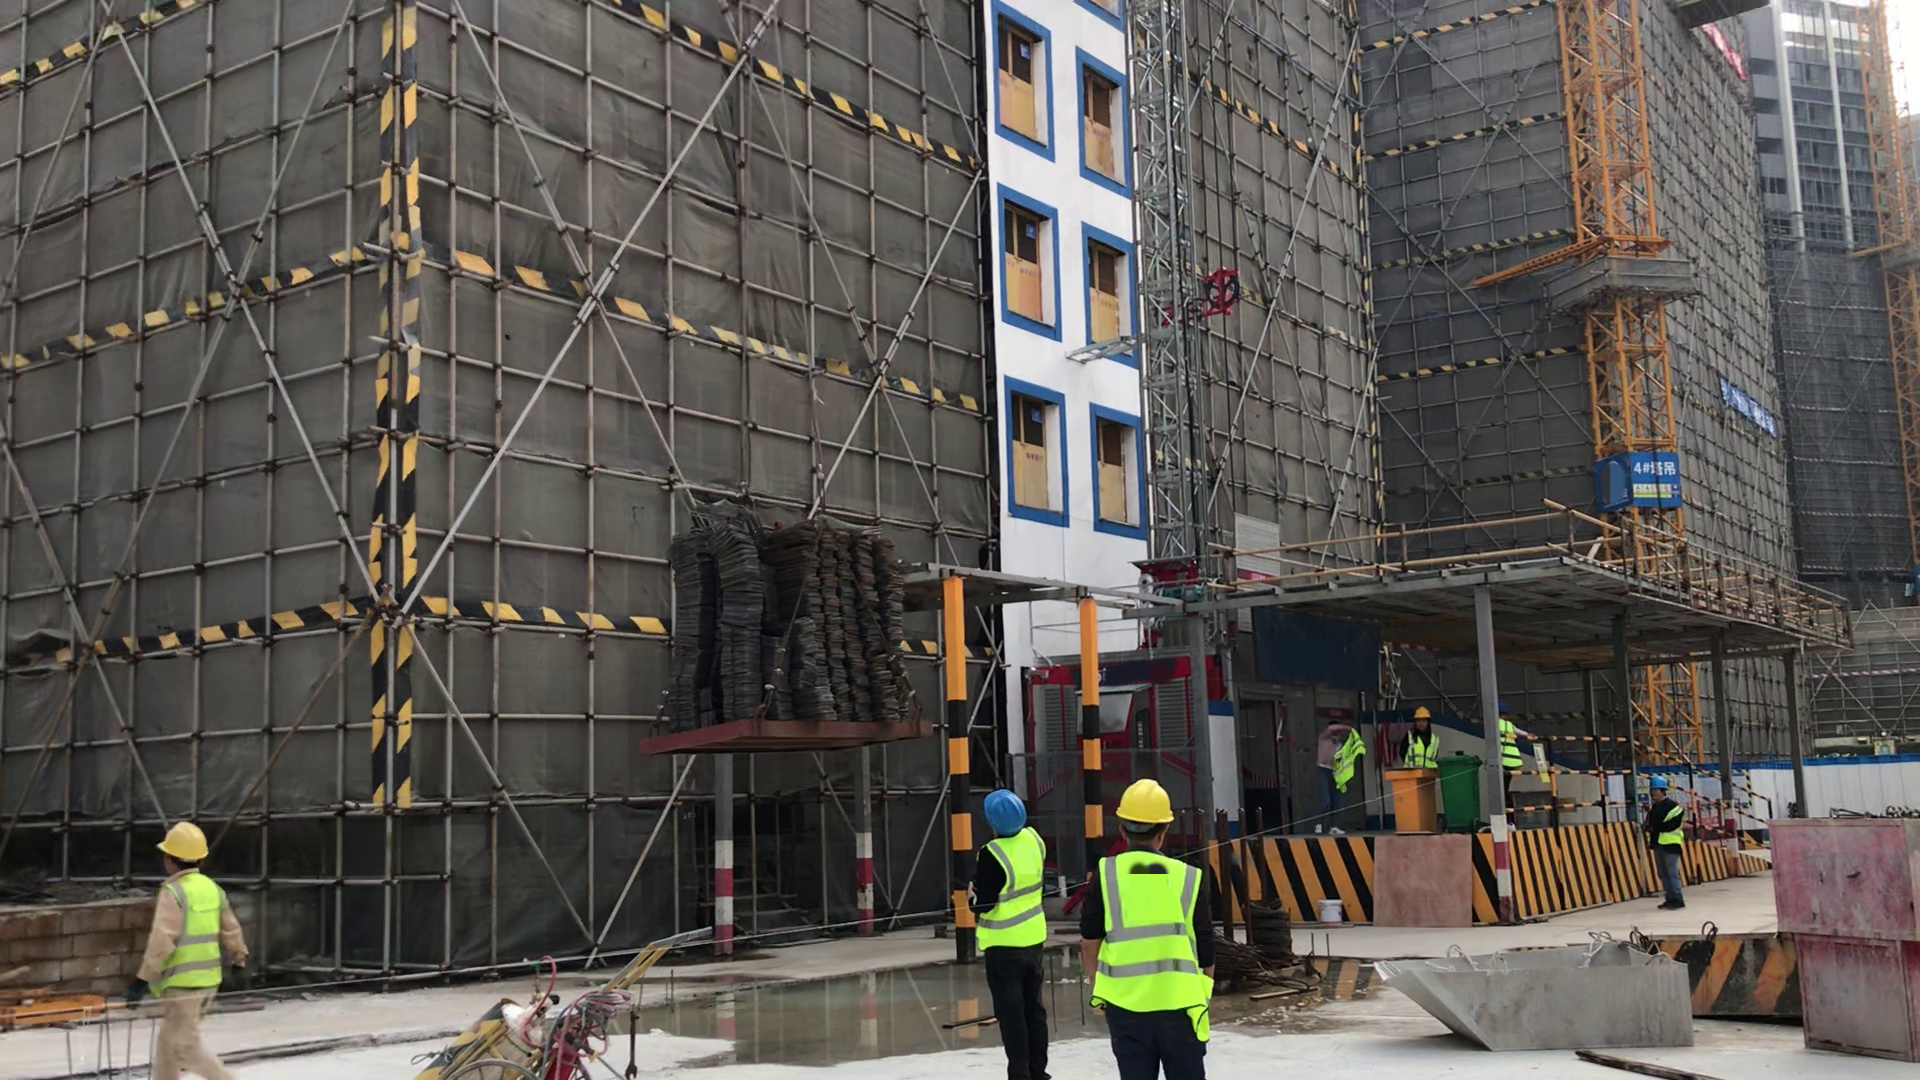fence: (1490, 722, 1780, 864)
handcart: (394, 923, 730, 1080)
helmet: (1116, 770, 1189, 833), (150, 810, 221, 873), (977, 787, 1035, 837), (1404, 704, 1440, 724), (1650, 773, 1679, 797), (1492, 692, 1519, 715), (1035, 835, 1036, 837)
hopper: (1363, 919, 1733, 1076)
person: (1066, 747, 1237, 1080), (123, 796, 272, 1080), (936, 758, 1065, 1080), (1628, 766, 1702, 930), (1389, 677, 1458, 822), (1312, 697, 1375, 843), (1493, 689, 1561, 819)
slogan: (1584, 443, 1698, 524), (1710, 361, 1794, 454), (1677, 26, 1765, 92)
vest: (1090, 846, 1240, 1045), (145, 869, 244, 999), (968, 826, 1052, 957), (1328, 723, 1370, 793), (1487, 717, 1534, 775), (1644, 797, 1687, 855), (1401, 725, 1439, 775)
